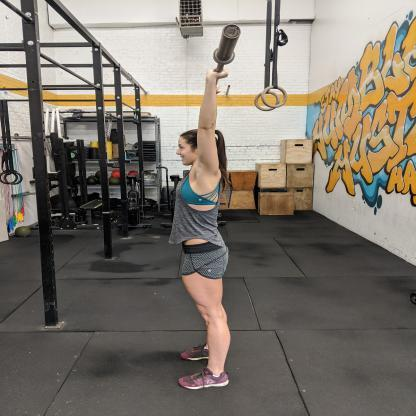Barbell: (222, 22, 245, 42)
